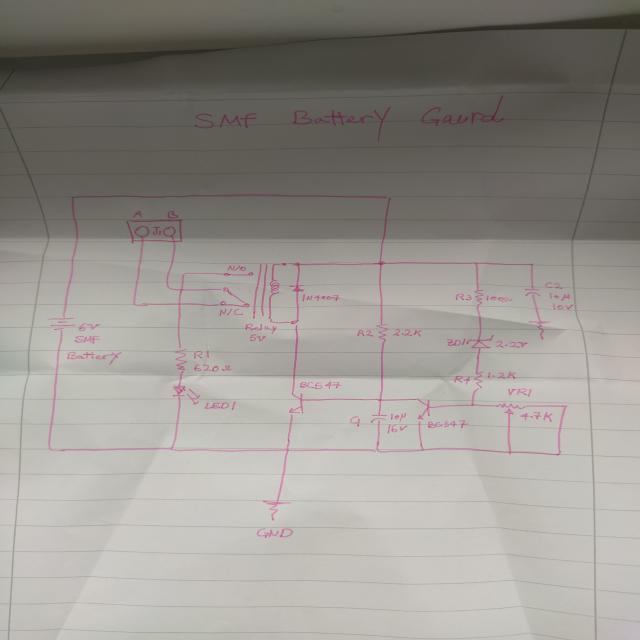capacitor: (368, 413, 388, 423), (523, 287, 542, 297)
crossover: (177, 286, 186, 292), (176, 300, 183, 306)
diode: (171, 384, 201, 404), (466, 334, 494, 349), (287, 283, 306, 293)
ground: (261, 499, 292, 521), (526, 320, 552, 340)
junction: (46, 445, 62, 453), (287, 318, 300, 326), (132, 300, 149, 306), (372, 447, 382, 453), (374, 397, 384, 403), (167, 446, 176, 452), (283, 447, 292, 453), (560, 404, 570, 409), (506, 449, 514, 455), (377, 260, 385, 266), (555, 451, 562, 457), (69, 194, 76, 200), (165, 284, 172, 290), (292, 262, 302, 266), (469, 402, 476, 407), (181, 271, 188, 276), (419, 448, 427, 452), (384, 196, 392, 200), (472, 262, 479, 266), (529, 262, 534, 266)
resistor: (495, 402, 528, 415), (172, 346, 188, 372), (375, 322, 389, 343), (471, 370, 484, 391), (472, 288, 484, 306)
source: (46, 315, 76, 332)
terminal: (134, 225, 150, 237), (162, 226, 176, 237)
text: (192, 94, 506, 142), (66, 351, 123, 365), (254, 527, 294, 539), (519, 410, 553, 423), (426, 419, 469, 429), (299, 380, 342, 389), (244, 322, 277, 333), (301, 293, 341, 302), (193, 363, 232, 372), (203, 401, 238, 410), (73, 334, 101, 344), (494, 340, 528, 348), (392, 328, 422, 337), (506, 387, 533, 397), (486, 371, 517, 379), (386, 423, 408, 434), (77, 322, 101, 332), (485, 294, 513, 302), (548, 291, 570, 301), (218, 308, 244, 316), (551, 302, 574, 311), (389, 411, 406, 423), (192, 349, 210, 359), (452, 375, 470, 385), (445, 338, 466, 346), (454, 292, 472, 301), (544, 281, 562, 290), (226, 264, 246, 272), (248, 334, 266, 342), (356, 329, 374, 337), (349, 415, 361, 427), (150, 226, 162, 236), (166, 210, 179, 219), (131, 210, 144, 218)
transistor: (286, 392, 306, 416), (414, 397, 431, 422)
